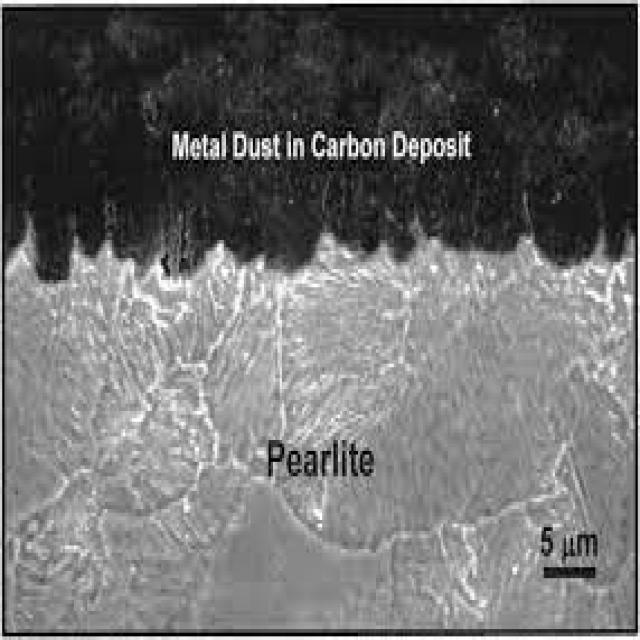crack: (15, 159, 623, 410)
